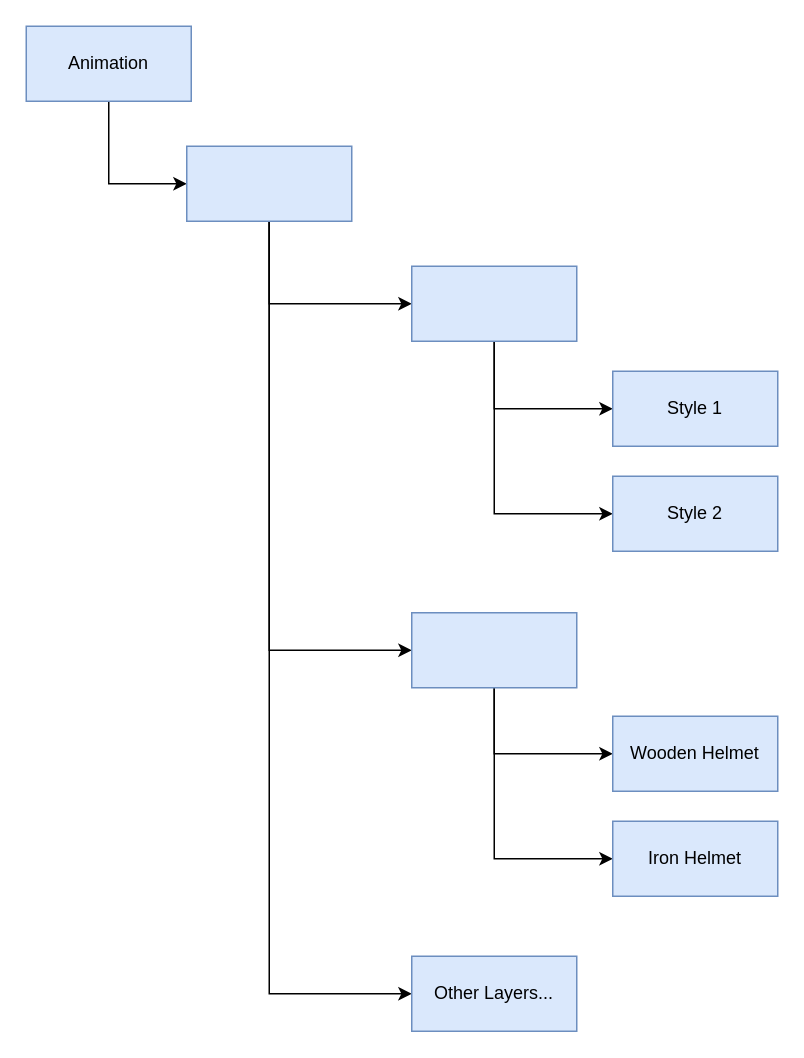
The diagram is 804 pixels wide and 1058 high, and some of its shapes have lost their labels. Here are the shapes that lost their labels. From the top down, the centre of each, then its label:
At pixel 268 183: "Layers".
At pixel 493 303: "Hair".
At pixel 493 649: "Helmet".
